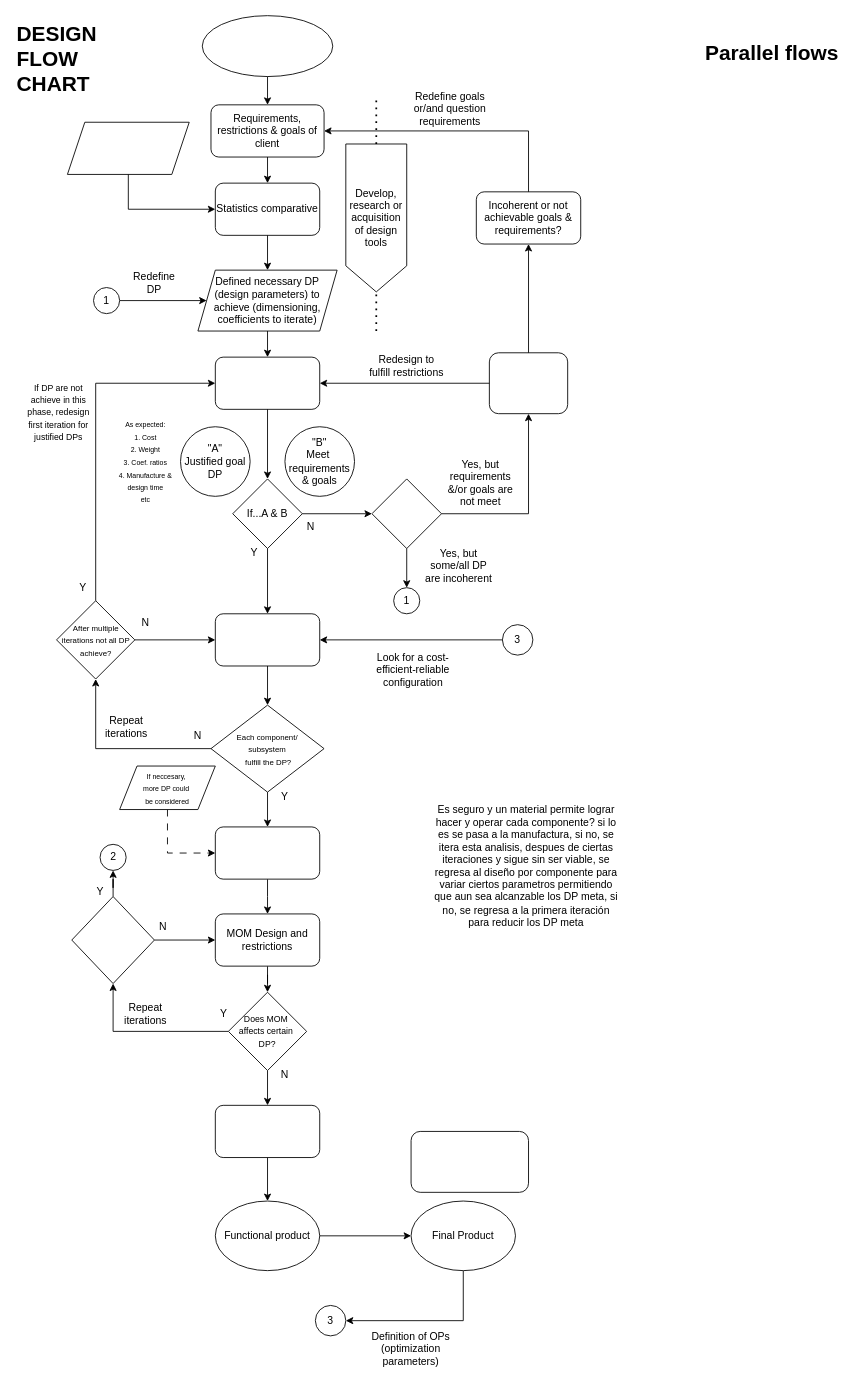
Some shapes in this 865 by 1398 pixel diagram are drawn without their labels. The shapes that lost their labels are listed below. From the top down, each one's centre as x and y in pixels, then its label:
[267,46]: Mission & objective of product
[128,147]: Research and develop statistics data base
[267,382]: Develop the First release
[528,383]: Restrictions not fulfilled?
[406,513]: Case A or B
[267,639]: Detail Design Phase
[267,852]: Structural and Viability Analysis
[112,940]: After multiple Iterations , MOM affects DP?
[267,1131]: Budget Analysis
[469,1161]: Manufacture schedule and assemblie
